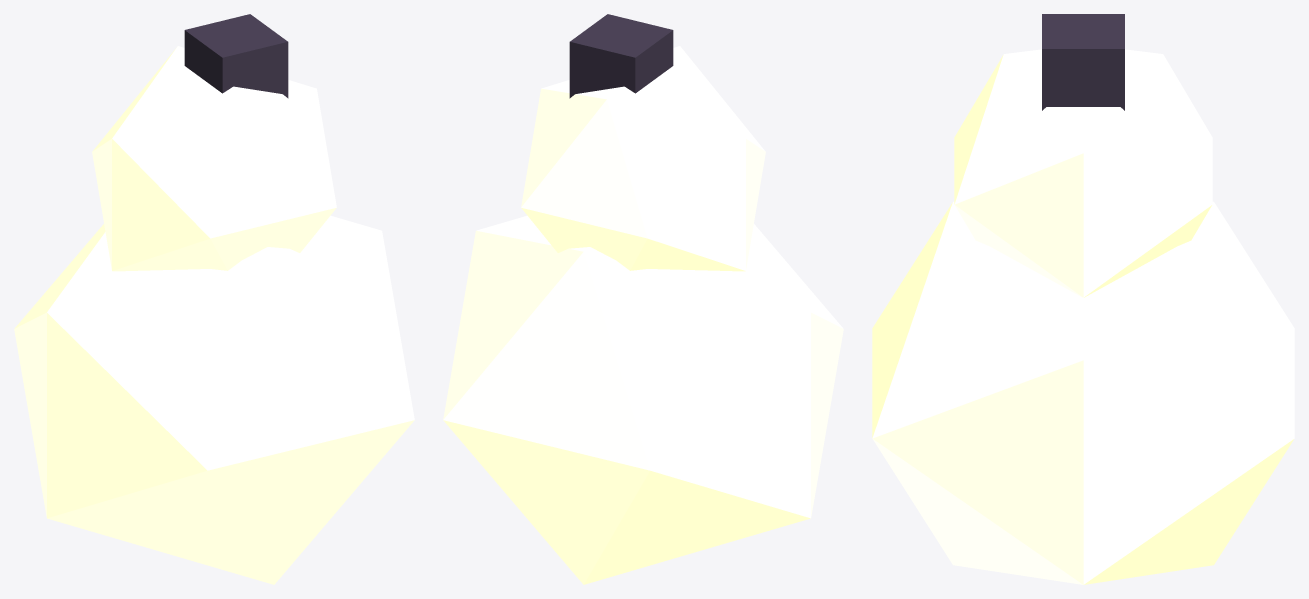
File: pear.glb
3 renders of one model, left to right at view 1: azimuth 30°, elevation 25°; view 2: azimuth 150°, elevation 25°; view 3: azimuth 270°, elevation 25°, orthographic. The views are drawn at different scales.
Visible parts, largest first — view 1: Fruit; view 2: Fruit; view 3: Fruit.
Part boxes in pixels (x1,y1,x2,y2): Fruit: [14, 14, 414, 584]; Fruit: [443, 14, 843, 584]; Fruit: [872, 14, 1294, 584].
Bounding box in the file's own units: 0.3062 × 0.4365 × 0.3062.
